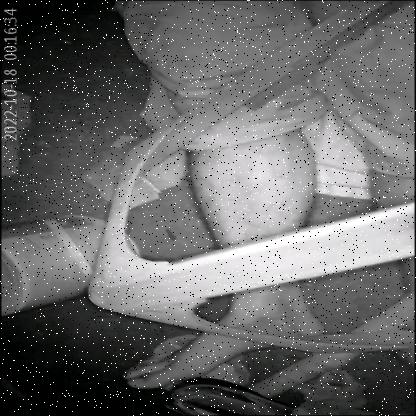leg: (108, 131, 349, 395)
